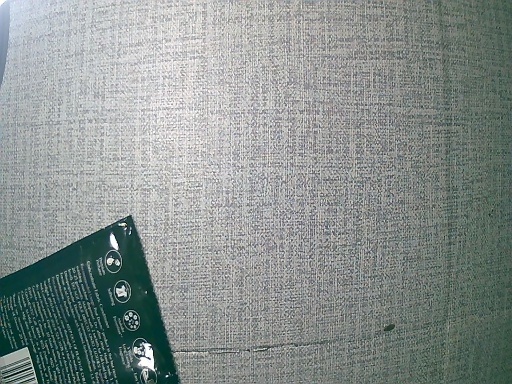plastic: (1, 202, 186, 384)
